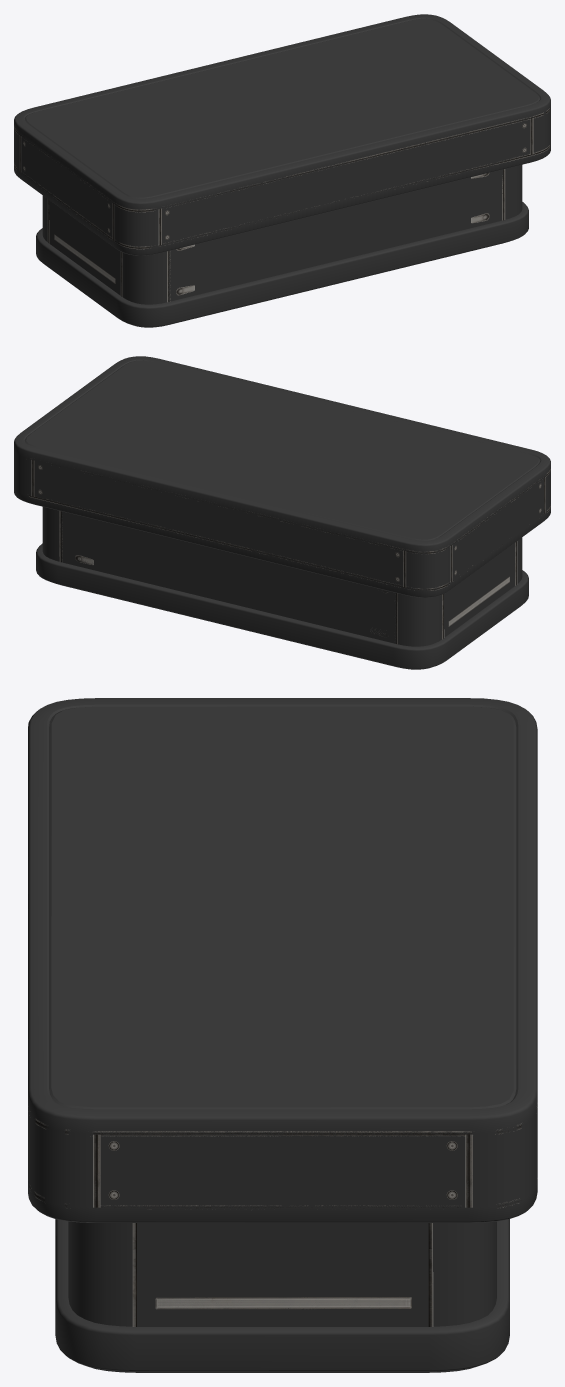
Rendered from SM_Table_01.FBX.
3 renders of one model, top to bottom at view 1: azimuth 30°, elevation 25°; view 2: azimuth 150°, elevation 25°; view 3: azimuth 270°, elevation 25°, orthographic. The views are drawn at different scales.
Parts seen in each view (by area): view 1: SM_Table_01_LOD0; view 2: SM_Table_01_LOD0; view 3: SM_Table_01_LOD0.
Boxes of the visible parts, x1,y1,x2,y2 form: SM_Table_01_LOD0: (14,14,550,327); SM_Table_01_LOD0: (14,356,550,669); SM_Table_01_LOD0: (28,698,537,1372).
Size of what is drawn, in the model's own units: 147 by 75.16 by 44.46.
